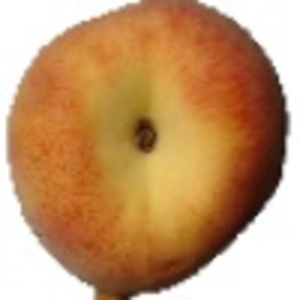pêssego: (5, 1, 290, 300)
